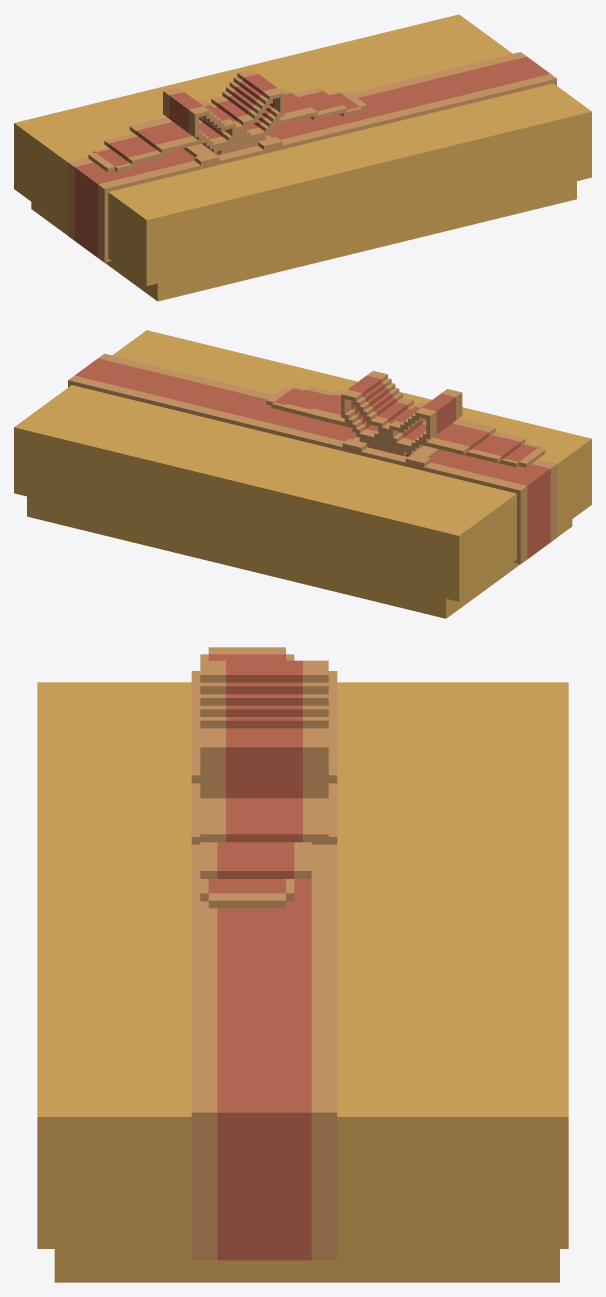
Rendered from chocolate box closed.fbx.
The picture shows the model from 3 angles, top to bottom: view 1: azimuth 30°, elevation 25°; view 2: azimuth 150°, elevation 25°; view 3: azimuth 270°, elevation 25°; orthographic projection. The views are drawn at different scales.
Parts seen in each view (by area): view 1: cap, box; view 2: cap, box; view 3: cap, box.
Part boxes in pixels (x1,y1,x2,y2): cap: [14, 14, 591, 285]; box: [31, 181, 576, 301]; cap: [14, 330, 591, 601]; box: [27, 496, 572, 618]; cap: [37, 647, 568, 1260]; box: [54, 1249, 559, 1282].
Size of the model in its own units: 122 by 36.71 by 62.
1 material, 1 textured.
